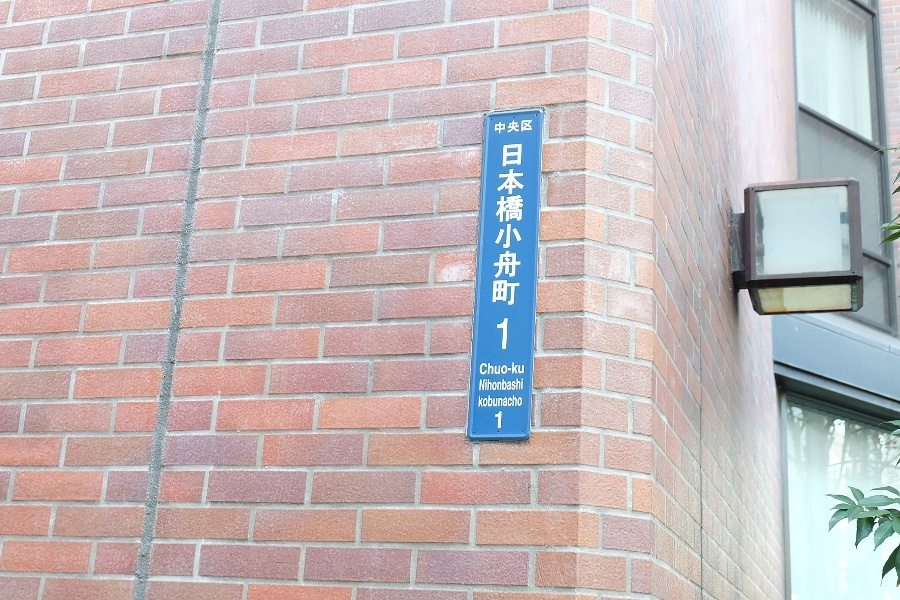text: (499, 143, 512, 351), (513, 143, 526, 351), (497, 120, 512, 135), (513, 120, 528, 135), (481, 362, 496, 375), (497, 362, 512, 375), (481, 379, 496, 391), (497, 379, 512, 391), (481, 395, 496, 407), (497, 395, 512, 407), (513, 362, 524, 375), (513, 379, 523, 391), (513, 395, 522, 407), (497, 412, 502, 429), (529, 120, 532, 135), (495, 412, 496, 429), (495, 120, 496, 135), (479, 395, 480, 407)
